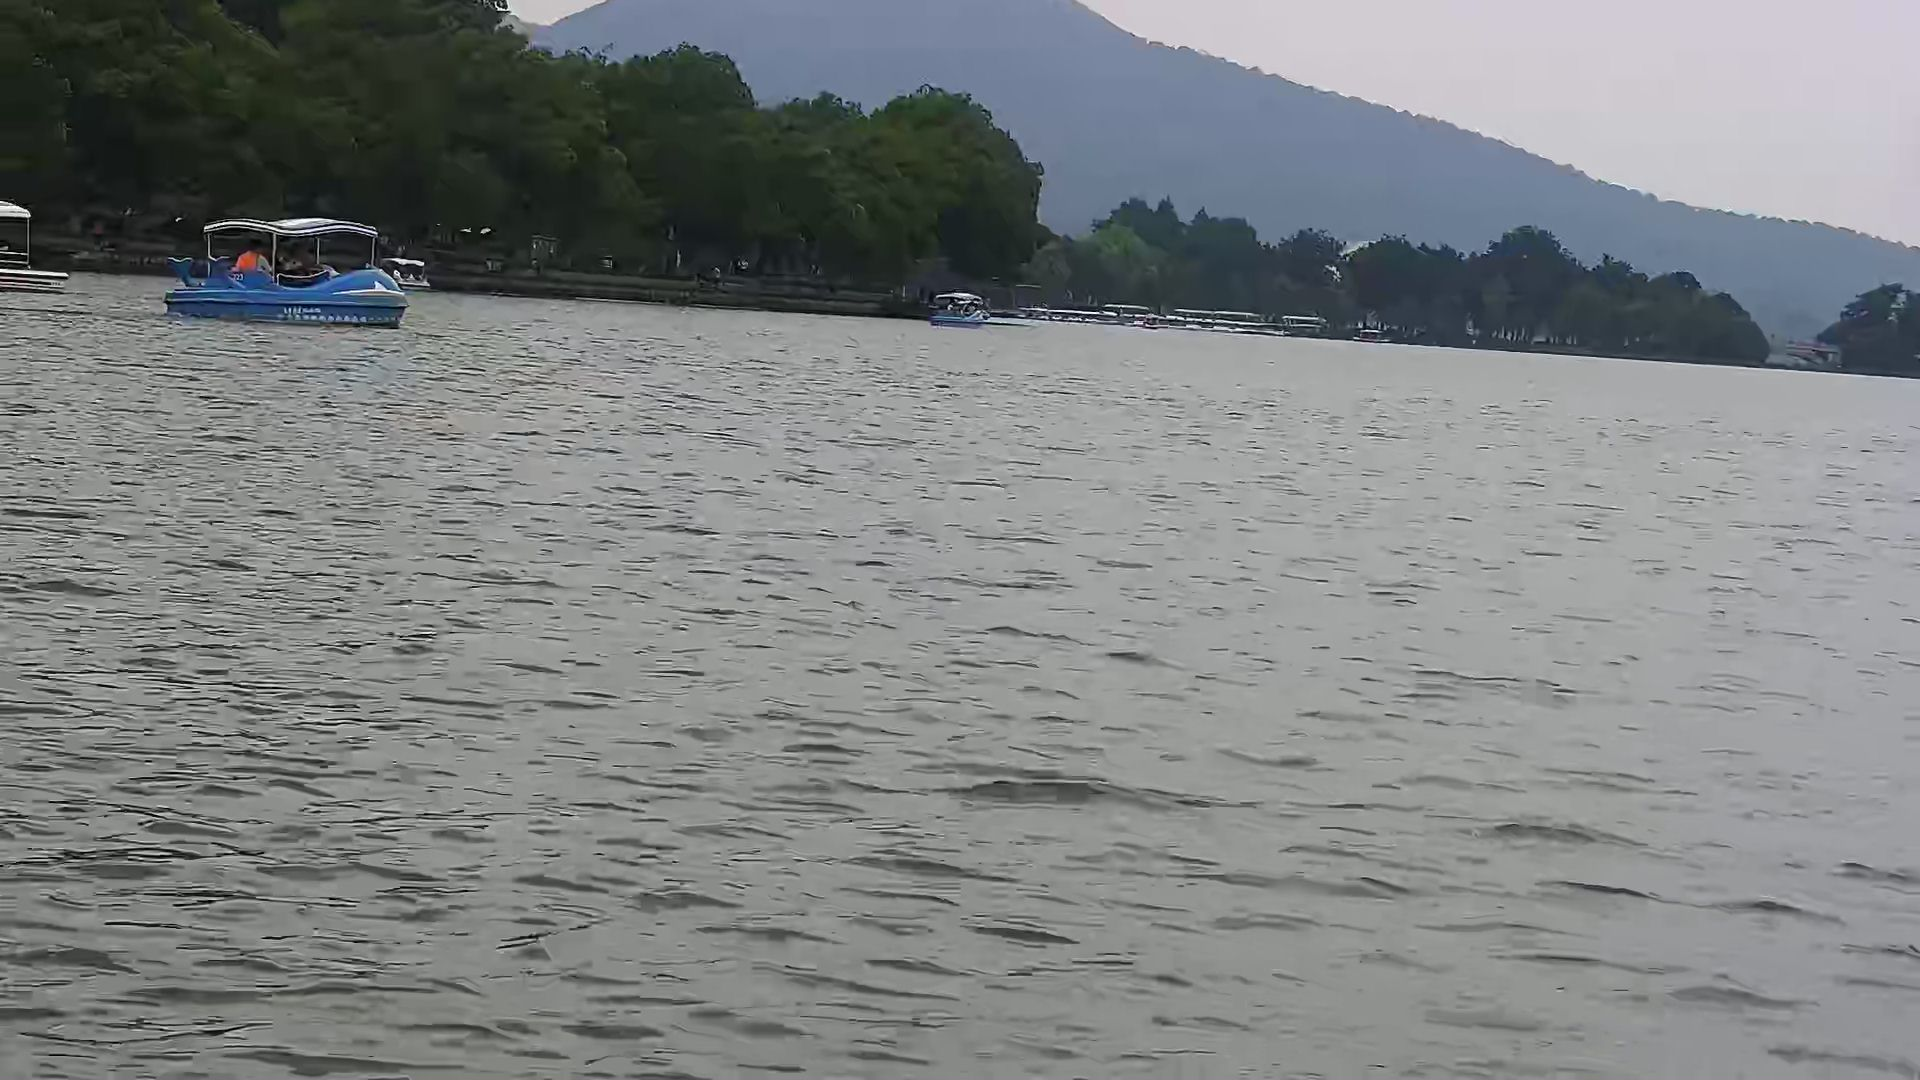boat: (166, 200, 402, 324), (927, 287, 993, 334)
